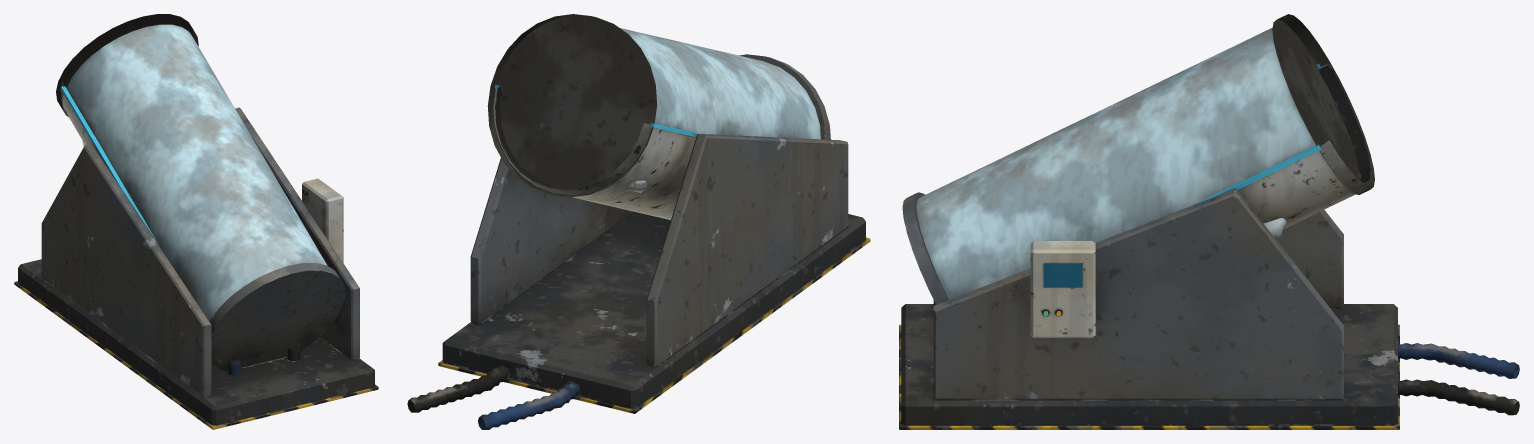
The model's file is CryoPod.fbx.
3 views of the same model, side by side, from view 1: azimuth 30°, elevation 25°; view 2: azimuth 150°, elevation 25°; view 3: azimuth 270°, elevation 25° (orthographic). The views are drawn at different scales.
Visible parts, largest first — view 1: Frame, Glass, GlowBlue; view 2: Frame, Glass; view 3: Frame, Glass, Screen, GlowBlue.
Part boxes in pixels (<box>): Frame: <box>14,14,378,429</box>; Glass: <box>66,24,327,320</box>; GlowBlue: <box>60,86,157,243</box>; Frame: <box>407,14,870,429</box>; Glass: <box>620,28,820,139</box>; Frame: <box>899,14,1519,429</box>; Glass: <box>916,27,1315,299</box>; Screen: <box>1043,263,1082,287</box>; GlowBlue: <box>1191,64,1320,205</box>.
Bounding box in the file's own units: 3.77 × 5.45 × 8.63.
Materials: 1 (1 with a texture image).
